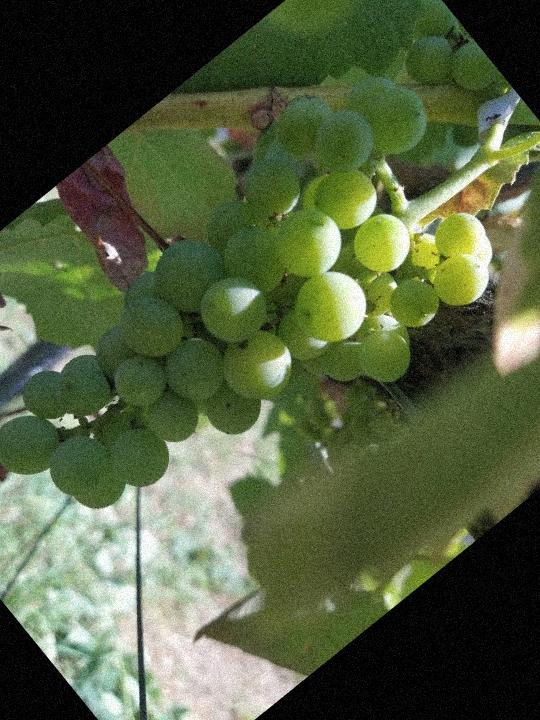grape: (0, 31, 540, 615)
